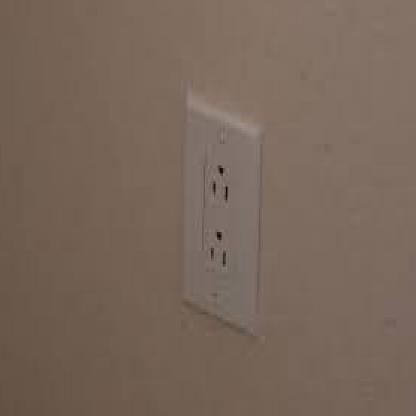OUTLET: (181, 91, 263, 344)
